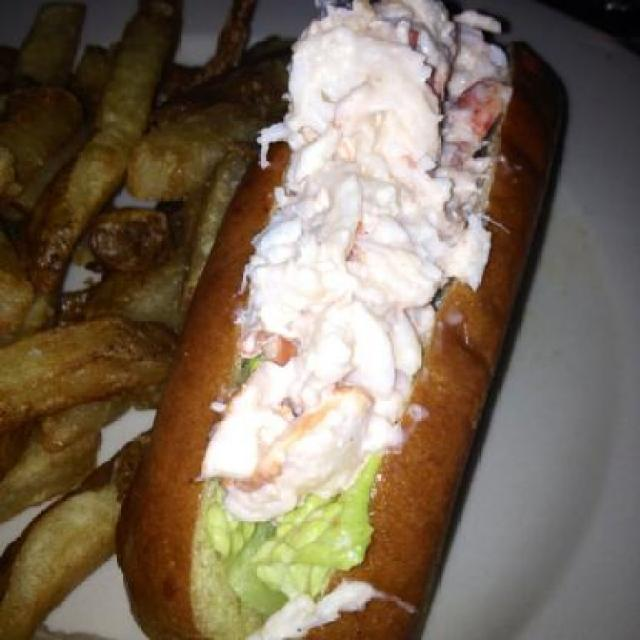Hot dog: (108, 38, 570, 640)
